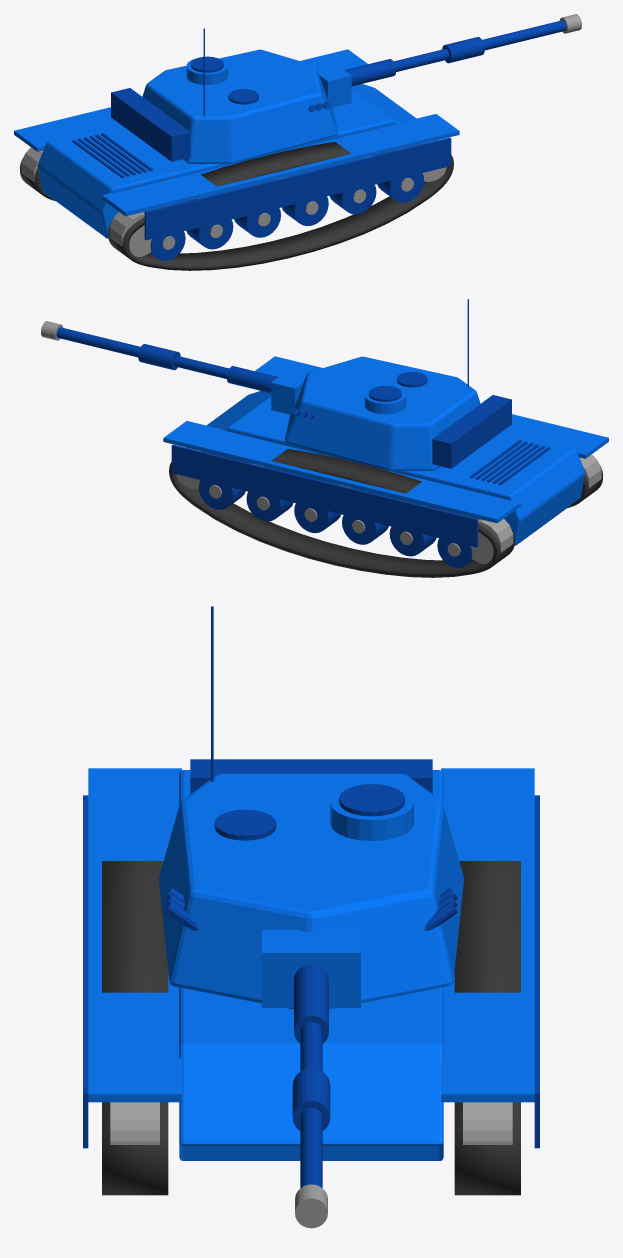
The model's file is tank.glb.
3 views of the same model, one above another, from view 1: azimuth 30°, elevation 25°; view 2: azimuth 150°, elevation 25°; view 3: azimuth 270°, elevation 25° (orthographic). The views are drawn at different scales.
Visible parts, largest first — view 1: Turret, Hull, Track_R, SideSkirt_R, Fender_R, BustleRack, Fender_L, Barrel, Mantlet, Sprocket_R, Barrel_Base, RoadWheel_R4 (+10 smaller); view 2: Turret, Hull, Track_L, SideSkirt_L, Fender_L, BustleRack, Fender_R, Barrel, Mantlet, Sprocket_L, Barrel_Base, RoadWheel_L2 (+10 smaller); view 3: Turret, Hull, Fender_L, Fender_R, Track_L, Track_R, Mantlet, BustleRack, Barrel, Cupola, Barrel_Base, Idler_L (+7 smaller).
Boxes of the visible parts, <box> form: Turret: <box>142,49,337,163</box>; Hull: <box>37,84,416,238</box>; Track_R: <box>108,142,453,270</box>; SideSkirt_R: <box>144,137,451,240</box>; Fender_R: <box>102,114,459,216</box>; BustleRack: <box>111,88,190,161</box>; Fender_L: <box>14,49,367,151</box>; Barrel: <box>393,20,566,71</box>; Mantlet: <box>306,57,351,107</box>; Sprocket_R: <box>109,212,151,256</box>; Barrel_Base: <box>344,59,396,86</box>; RoadWheel_R4: <box>329,184,376,214</box>; Turret: <box>285,356,480,470</box>; Hull: <box>206,391,585,545</box>; Track_L: <box>169,449,514,577</box>; SideSkirt_L: <box>171,444,478,547</box>; Fender_L: <box>163,421,520,523</box>; BustleRack: <box>432,395,511,468</box>; Fender_R: <box>255,356,608,458</box>; Barrel: <box>56,327,229,378</box>; Mantlet: <box>271,364,316,414</box>; Sprocket_L: <box>471,519,513,563</box>; Barrel_Base: <box>226,366,278,393</box>; RoadWheel_L2: <box>342,515,388,544</box>; Turret: <box>158,773,464,1009</box>; Hull: <box>179,770,443,1160</box>; Fender_L: <box>441,768,534,1102</box>; Fender_R: <box>88,768,181,1102</box>; Track_L: <box>454,861,520,1195</box>; Track_R: <box>102,861,168,1195</box>; Mantlet: <box>262,929,360,1007</box>; BustleRack: <box>190,759,432,793</box>; Barrel: <box>300,1021,322,1187</box>; Cupola: <box>330,787,413,840</box>; Barrel_Base: <box>294,964,328,1043</box>; Idler_L: <box>463,1102,512,1144</box>.
Bounding box in the file's own units: 11.3 × 4.47 × 4.15.
